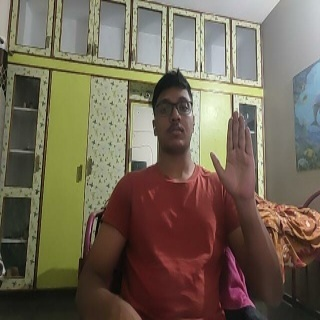Face: (151, 68, 196, 155)
Hello: (210, 110, 258, 201)
